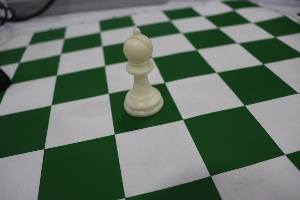white_bishop: (114, 16, 170, 122)
